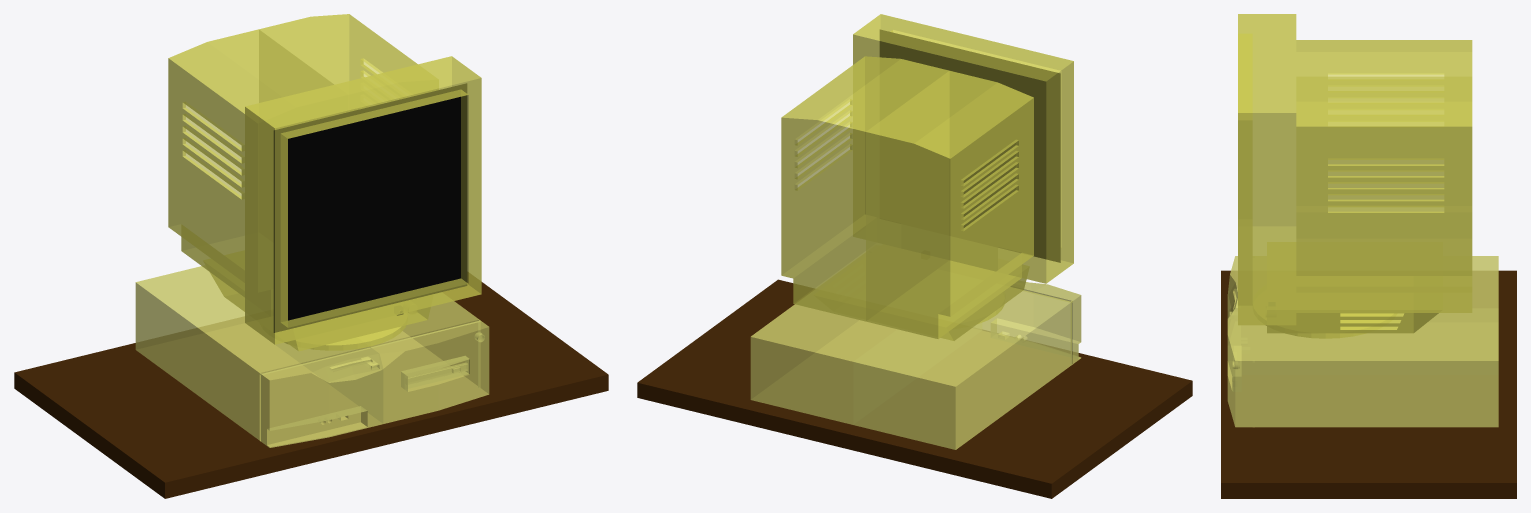
File: old_pc_off.glb
3 renders of one model, left to right at view 1: azimuth 30°, elevation 25°; view 2: azimuth 150°, elevation 25°; view 3: azimuth 270°, elevation 25°, orthographic. The views are drawn at different scales.
Parts seen in each view (by area): view 1: Monitor, Screen, Cube, Computer; view 2: Monitor, Computer, Cube, Screen; view 3: Monitor, Computer, Cube.
Boxes of the visible parts, x1,y1,x2,y2 form: Monitor: (168,14,481,351); Screen: (274,83,466,332); Cube: (14,281,608,498); Computer: (135,266,489,447); Monitor: (781,14,1073,340); Computer: (750,282,1081,449); Cube: (637,279,1192,498); Screen: (880,29,1060,262); Monitor: (1238,14,1472,338); Computer: (1227,256,1498,427); Cube: (1221,270,1516,498).
Bounding box in the file's own units: 17.15 × 12.4 × 10.1.
5 materials, 3 textured.
